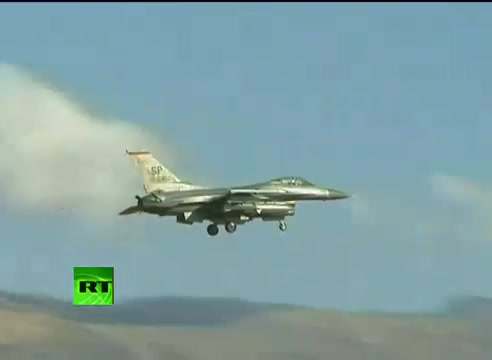aeroplane: (118, 151, 355, 238)
